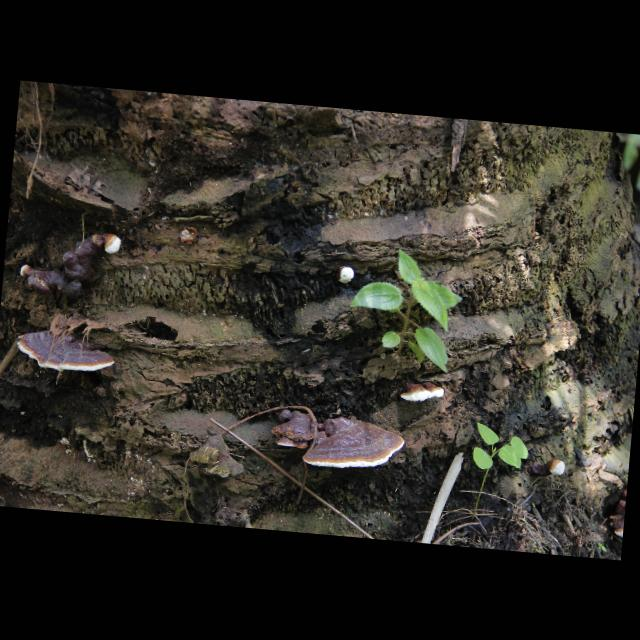ganoderma: (302, 414, 407, 475), (27, 228, 105, 305), (15, 325, 118, 377), (271, 409, 317, 452), (400, 381, 445, 406)
primordium: (103, 234, 123, 255), (546, 459, 566, 478), (336, 266, 355, 285), (20, 265, 33, 278)
